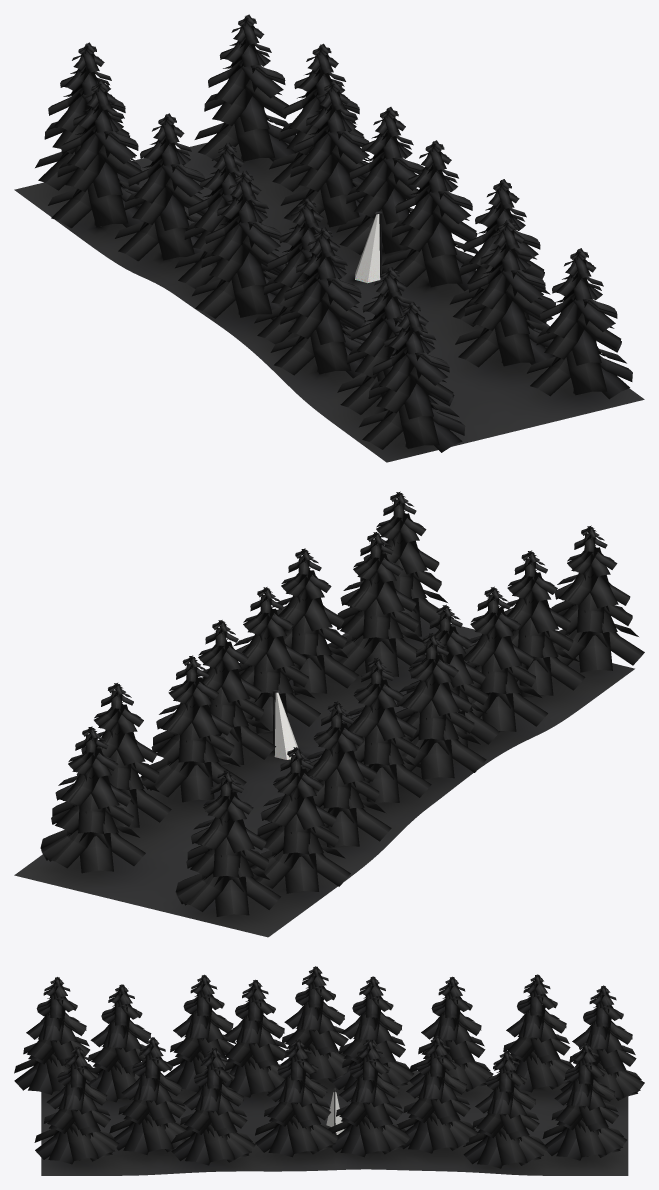
File: OminousStreetTerrain.fbx
The picture shows the model from 3 angles, top to bottom: view 1: azimuth 30°, elevation 25°; view 2: azimuth 150°, elevation 25°; view 3: azimuth 270°, elevation 25°; orthographic projection. The views are drawn at different scales.
Visible parts, largest first — view 1: Terrain, Tree.011, Tree.007, Tree.010, Tree.015, Tree.005, Tree.003, Tree.012, Tree.008, Tree.004, Tree.016, Tree.013 (+7 smaller); view 2: Terrain, Tree.015, Tree.017, Tree.003, Tree.016, Tree.010, Tree.007, Tree.008, Tree.005, Tree.004, Tree.001, Tree.012 (+7 smaller); view 3: Terrain, Tree.011, Tree.009, Tree.012, Tree.015, Tree.014, Tree.013, Tree.016, Tree.010, Tree.003, Tree, Tree.007 (+7 smaller).
Boxes of the visible parts, box(x1,y1,x2,y2) form: Terrain: box(14, 142, 644, 462); Tree.011: box(527, 248, 632, 399); Tree.007: box(359, 302, 465, 452); Tree.010: box(455, 219, 555, 367); Tree.015: box(194, 14, 295, 161); Tree.005: box(270, 227, 366, 378); Tree.003: box(48, 80, 143, 228); Tree.012: box(382, 140, 477, 291); Tree.008: box(192, 170, 286, 320); Tree.004: box(115, 113, 208, 262); Tree.016: box(280, 80, 370, 227); Tree.013: box(336, 107, 424, 254); Terrain: box(14, 617, 634, 937); Tree.015: box(40, 726, 145, 873); Tree.017: box(175, 770, 280, 916); Tree.003: box(247, 747, 350, 893); Tree.016: box(141, 655, 246, 802); Tree.010: box(327, 531, 425, 676); Tree.007: box(551, 525, 644, 672); Tree.008: box(395, 633, 486, 779); Tree.005: box(462, 586, 547, 731); Tree.004: box(301, 701, 391, 847); Tree.001: box(343, 658, 431, 803); Tree.012: box(233, 587, 320, 733); Terrain: box(41, 1070, 628, 1175); Tree.011: box(34, 1046, 119, 1164); Tree.009: box(171, 1047, 255, 1165); Tree.012: box(255, 1039, 337, 1157); Tree.015: box(542, 1043, 626, 1160); Tree.014: box(463, 1050, 547, 1168); Tree.013: box(328, 1039, 410, 1157); Tree.016: box(396, 1035, 478, 1153); Tree.010: box(109, 1037, 190, 1154); Tree.003: box(494, 974, 574, 1092); Tree: box(223, 979, 287, 1097); Tree.007: box(14, 977, 97, 1094).
Size of what is drawn, in the model's own units: 4557 by 2302 by 10746.
